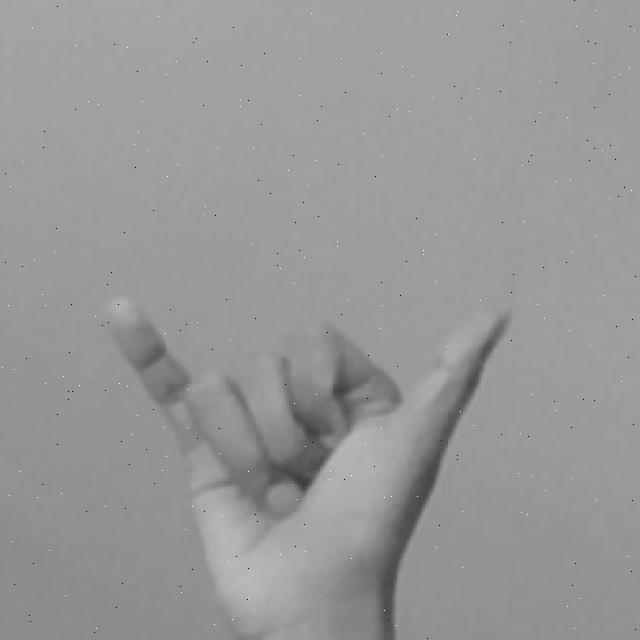Y: (98, 289, 522, 640)
